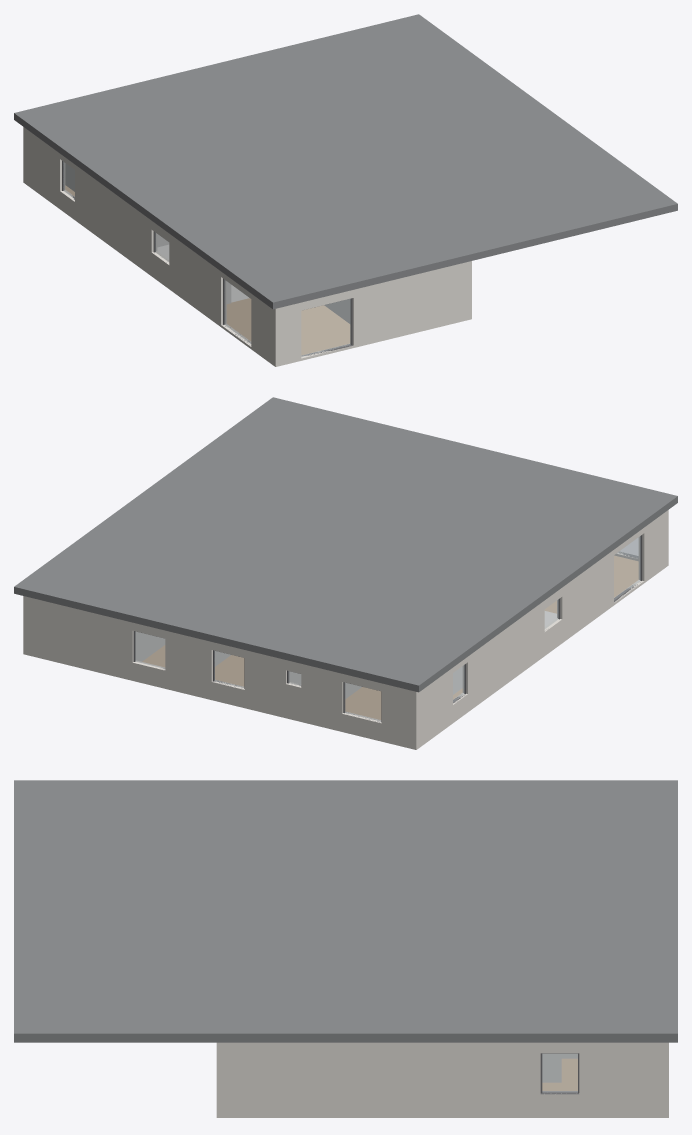
Rendered from family-home.glb.
3 renders of one model, top to bottom at view 1: azimuth 30°, elevation 25°; view 2: azimuth 150°, elevation 25°; view 3: azimuth 270°, elevation 25°, orthographic. The views are drawn at different scales.
Parts seen in each view (by area): view 1: Ground floor / Roof, Ground floor / Exterior wall (×2), Ground floor / Window glazing (×2), Ground floor / Family room floor; view 2: Ground floor / Roof, Ground floor / Exterior wall (×2), Ground floor / Window glazing (×4), Ground floor / Main bedroom floor, Ground floor / Family room floor, Ground floor / Bedroom 3 floor, Ground floor / Interior wall; view 3: Ground floor / Roof, Ground floor / Exterior wall (×2), Ground floor / Window glazing, Ground floor / Study floor, Ground floor / Interior wall.
Part boxes in pixels (x1=…): Ground floor / Roof: x1=14, y1=14, x2=677, y2=309; Ground floor / Exterior wall (×2): x1=23, y1=127, x2=471, y2=366; Ground floor / Window glazing (×2): x1=224, y1=280, x2=350, y2=356; Ground floor / Family room floor: x1=226, y1=298, x2=350, y2=354; Ground floor / Roof: x1=14, y1=397, x2=677, y2=692; Ground floor / Exterior wall (×2): x1=23, y1=512, x2=667, y2=749; Ground floor / Window glazing (×4): x1=135, y1=536, x2=640, y2=721; Ground floor / Main bedroom floor: x1=345, y1=687, x2=381, y2=719; Ground floor / Family room floor: x1=545, y1=555, x2=638, y2=613; Ground floor / Bedroom 3 floor: x1=215, y1=655, x2=244, y2=686; Ground floor / Interior wall: x1=135, y1=631, x2=165, y2=661; Ground floor / Roof: x1=14, y1=780, x2=677, y2=1042; Ground floor / Exterior wall (×2): x1=216, y1=1042, x2=668, y2=1117; Ground floor / Window glazing: x1=542, y1=1054, x2=577, y2=1092; Ground floor / Study floor: x1=542, y1=1058, x2=577, y2=1090; Ground floor / Interior wall: x1=542, y1=1053, x2=561, y2=1082.
Size of the model in its own units: 18.55 by 3.15 by 20.55.
